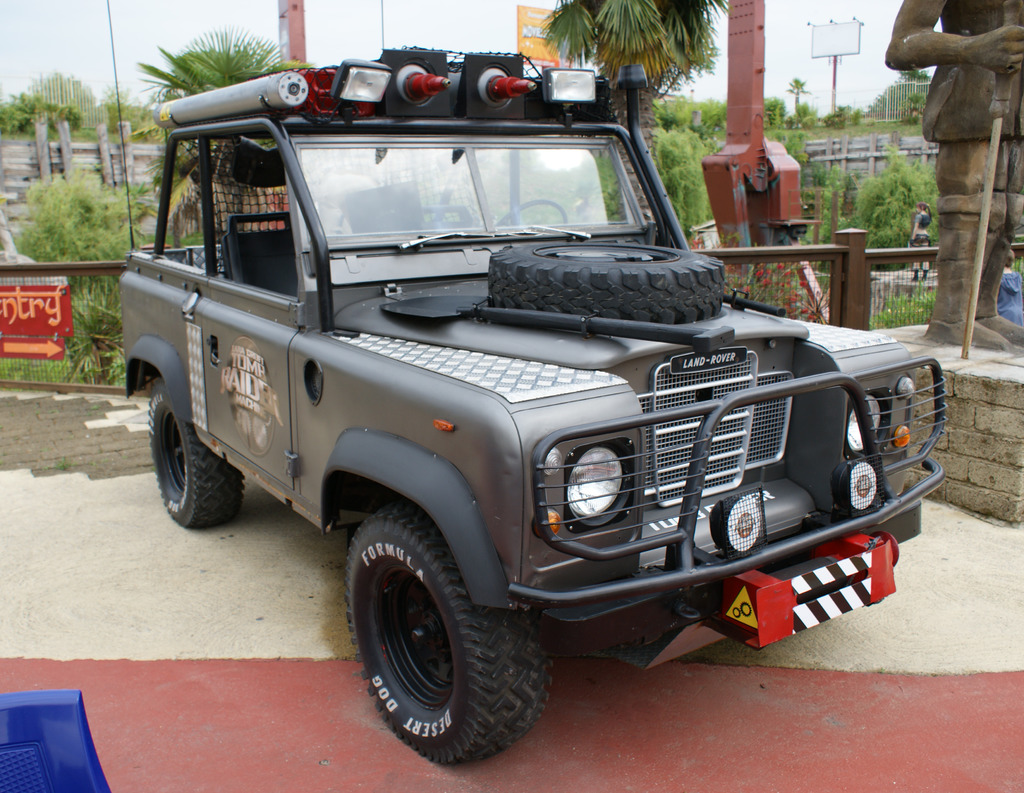Person: (883, 0, 1024, 350), (909, 201, 932, 281)
